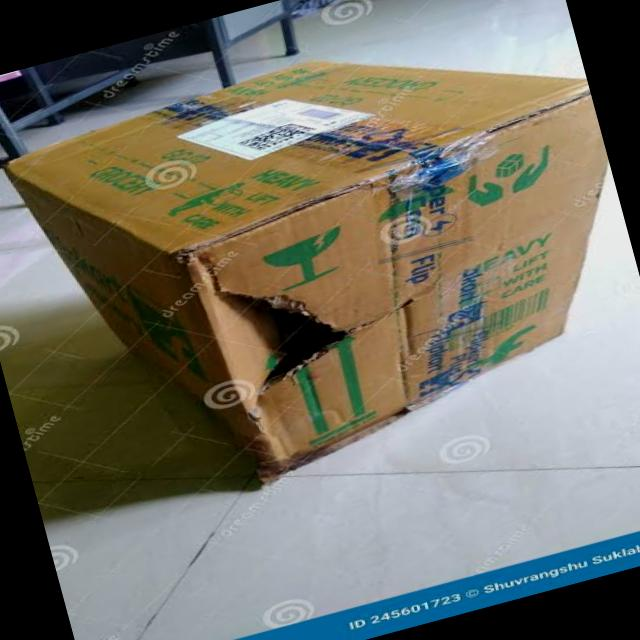package_damage: (138, 167, 493, 456)
